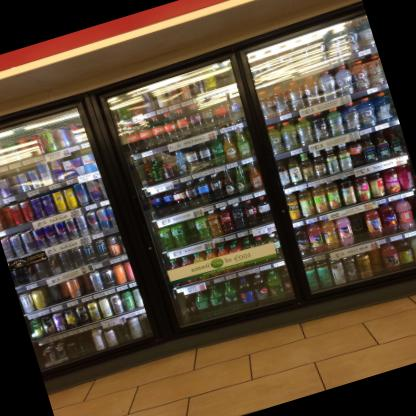empty_space: (348, 211, 371, 243), (180, 218, 201, 245)
